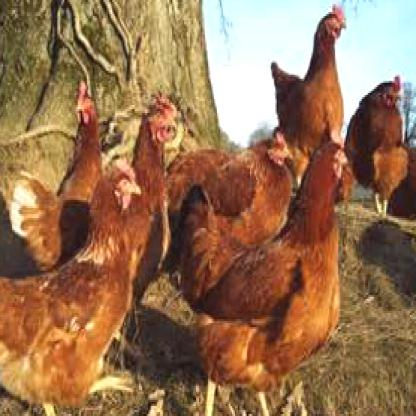chicken: (188, 145, 348, 414), (1, 155, 144, 414), (6, 78, 106, 274), (269, 0, 351, 136), (130, 95, 178, 277), (212, 129, 295, 230), (348, 75, 402, 216)
